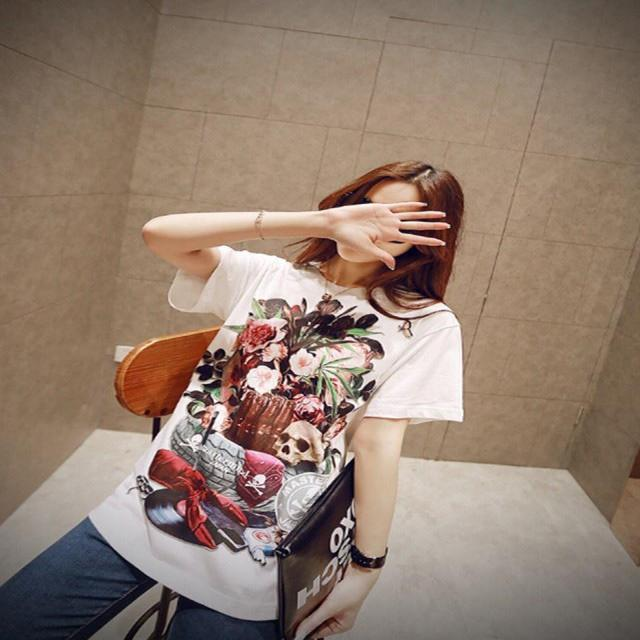short sleeve top: (88, 243, 465, 619)
trousers: (4, 494, 311, 639)
